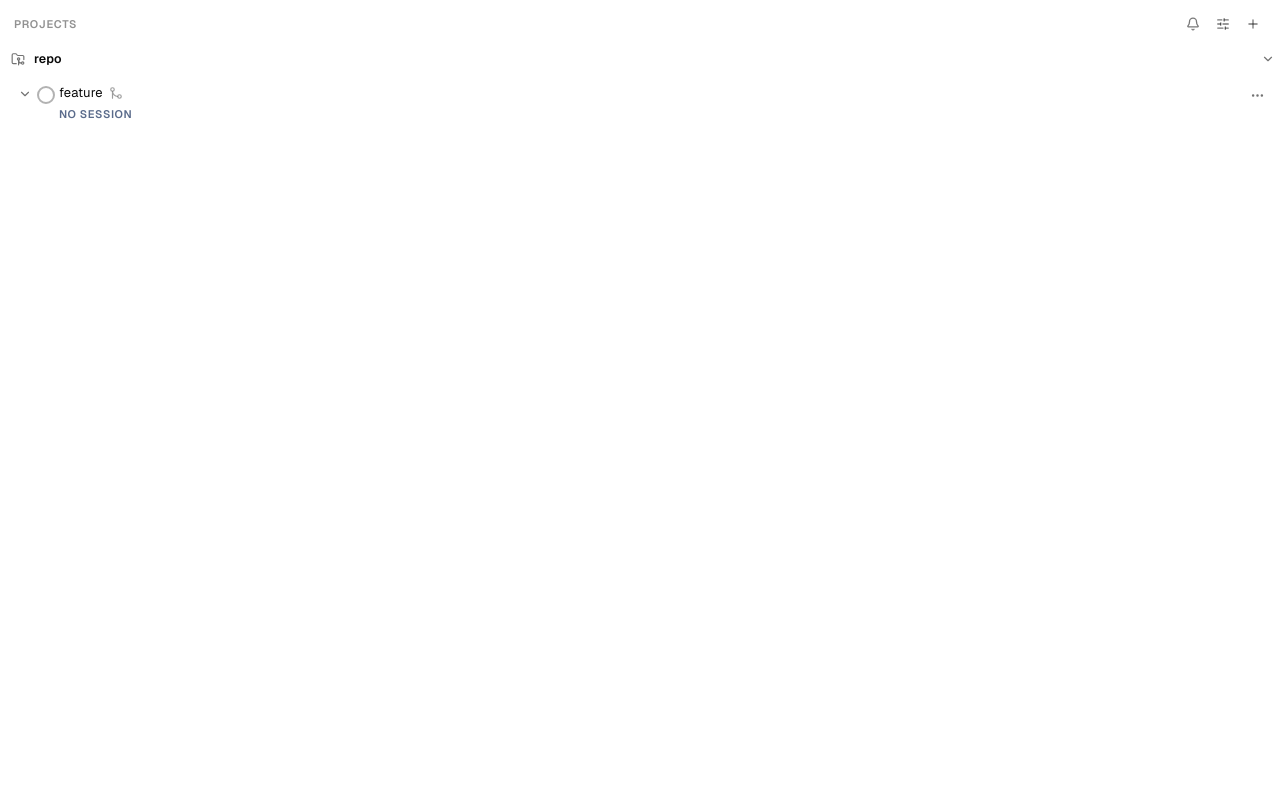
Scenario: Workspace options: viewport/keyboard reachability (packaged acceptance regression) › every option, Add Project, and the filter box are all real descendants of that one bounded/scrollable menu
Press the mouse on the button named "Workspace options": (1223, 24) x1=1210 y1=11 x2=1236 y2=37
Click the button named "Workspace options": (1223, 24) x1=1210 y1=11 x2=1236 y2=37
(page scrolled)
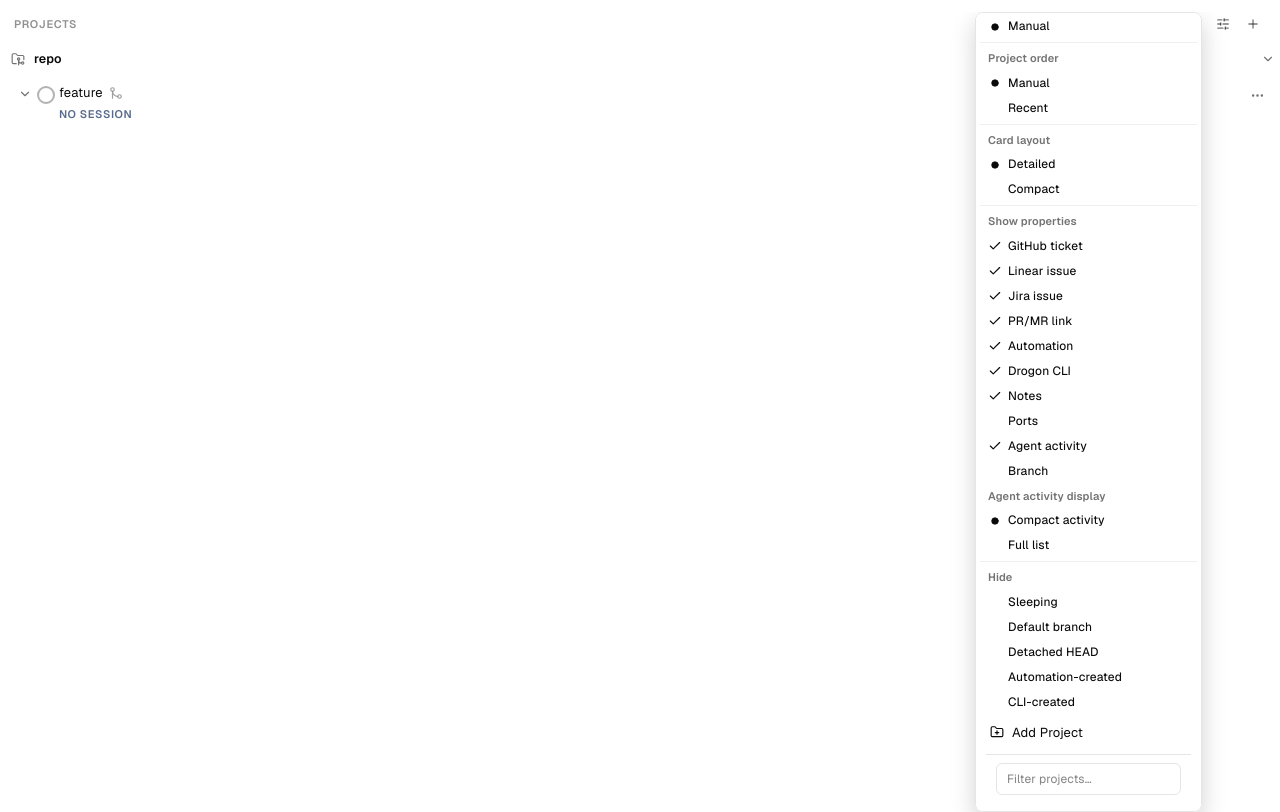
Check: the menu item "Compact" is shown, box x1=1008 y1=181 x2=1060 y2=197
Check: the menu item "PR/MR link" is shown, box x1=988 y1=312 x2=1073 y2=328
Check: the number of menu items "Manual" is 2, box x1=991 y1=18 x2=1050 y2=34; x1=991 y1=74 x2=1050 y2=90
